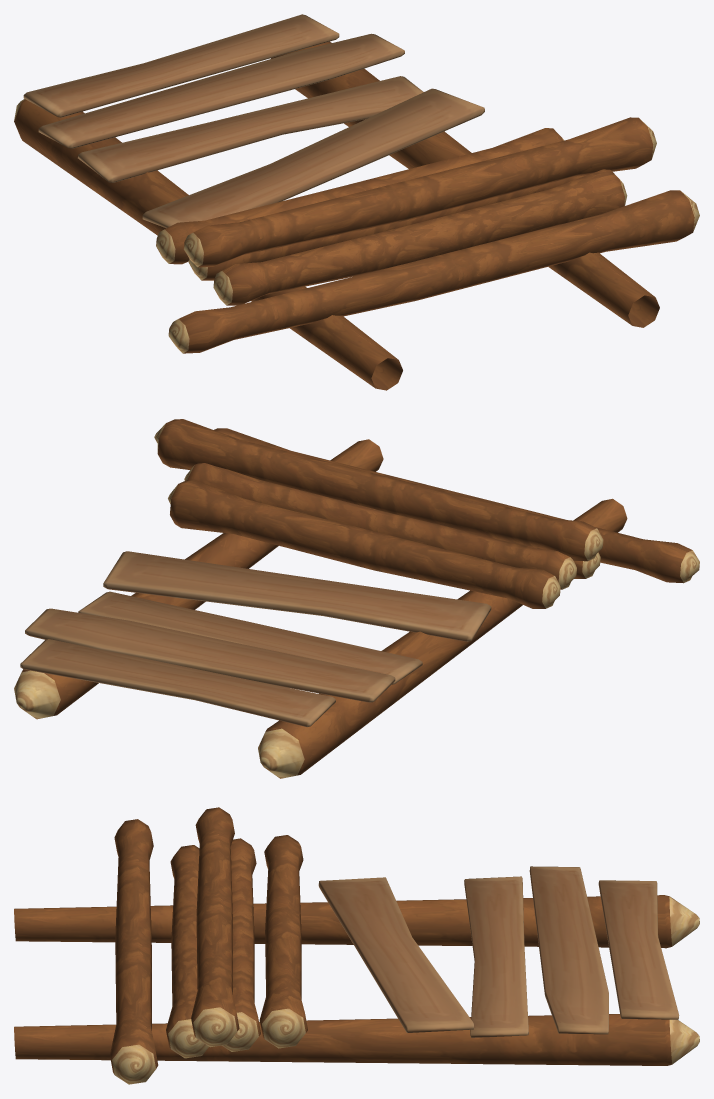
Rendered from Platform6.fbx.
3 views of the same model, one above another, from view 1: azimuth 30°, elevation 25°; view 2: azimuth 150°, elevation 25°; view 3: azimuth 270°, elevation 25° (orthographic). The views are drawn at different scales.
Visible parts, largest first — view 1: polySurface908; view 2: polySurface908; view 3: polySurface908.
Boxes of the visible parts, box(x1,y1,x2,y2) form: polySurface908: box(14, 14, 699, 390); polySurface908: box(14, 419, 699, 778); polySurface908: box(14, 807, 699, 1084).
Bounding box in the file's own units: 41.39 × 8.65 × 49.97.
